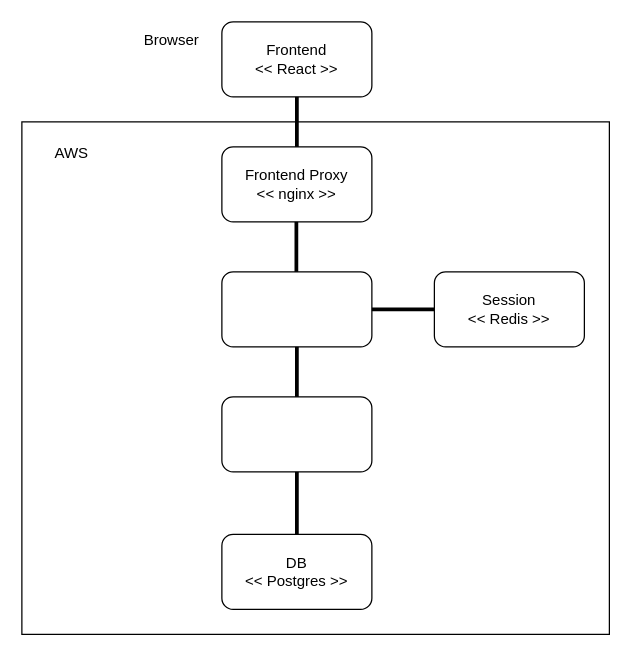
The diagram is 631 pixels wide and 656 high, and some of its shapes have lost their labels. Here are the shapes that lost their labels. From the top down, the centre of each, then its label:
At point 296,309: "API gateway << Node Express >>".
At point 296,434: "Backend << Spring boot >>".
